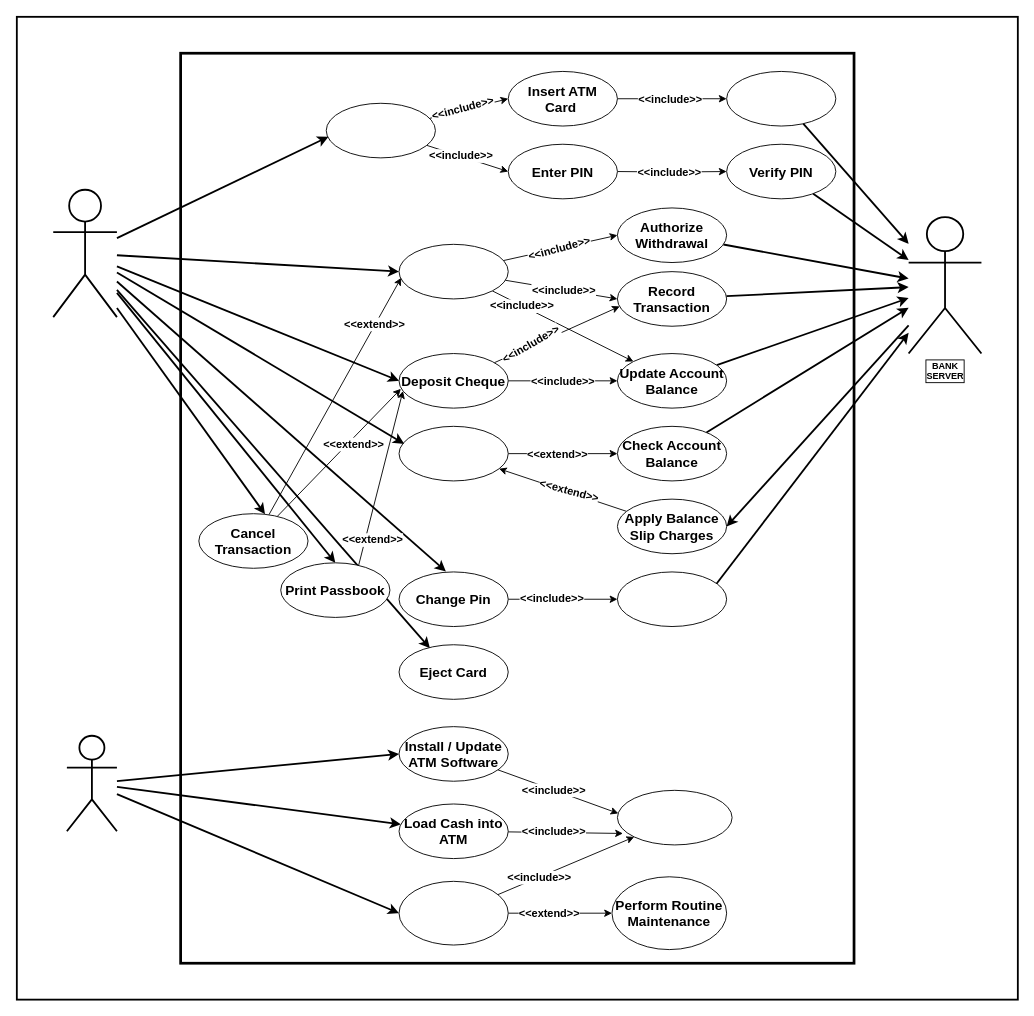
This 1034x1016 diagram has some shape labels left out. The shapes that lost their labels are listed below. From the top down, each one's centre as x and y in pixels, then its label:
At [781,98]: "Validate ATM Card".
At [380,130]: "Authenticate Customer".
At [84,253]: "ACCOUNT HOLDER".
At [453,271]: "Withdraw Cash".
At [453,453]: "Print Balance Slip".
At [672,599]: "Update Customer Account".
At [91,783]: "MAINTENANCE DEPARTMENT".
At [674,817]: "Put ATM In/Out of Service".
At [453,912]: "Troubleshoot / Repair ATM".
